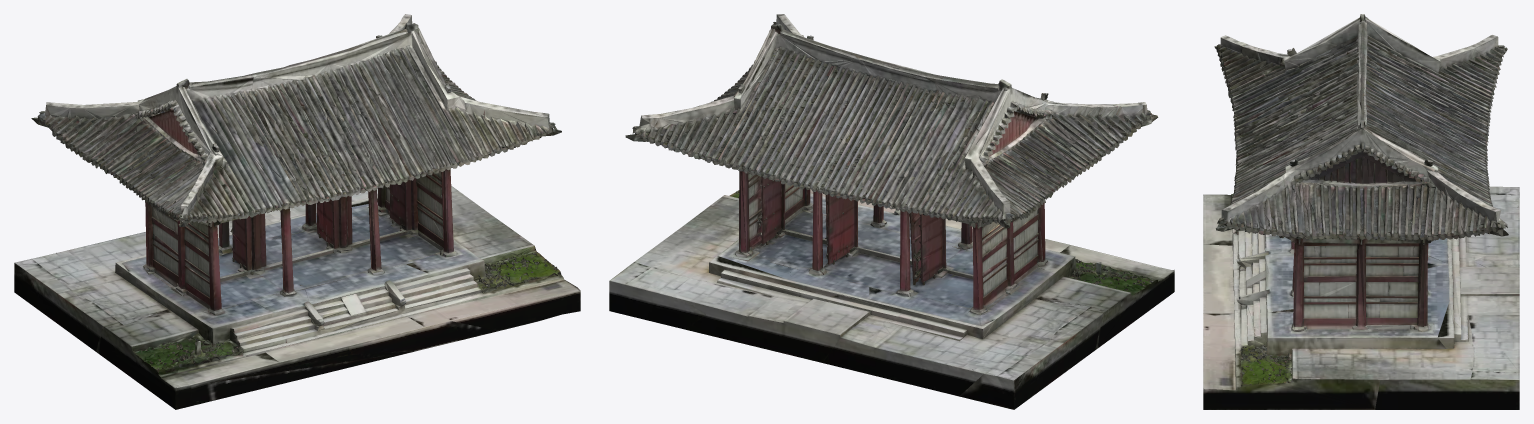
Rendered from junghwamun.glb.
3 renders of one model, left to right at view 1: azimuth 30°, elevation 25°; view 2: azimuth 150°, elevation 25°; view 3: azimuth 270°, elevation 25°, orthographic.
Size of the model in its own units: 22.79 by 13.47 by 15.69.
1 material, 1 textured.
